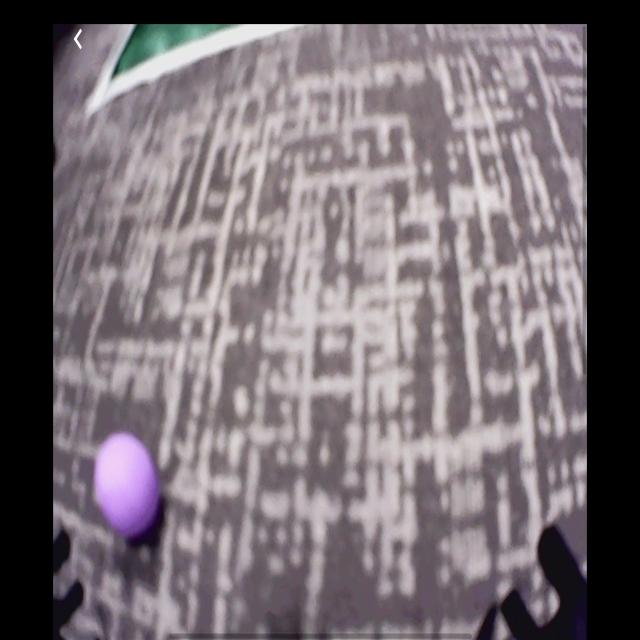ball: (94, 434, 162, 537)
